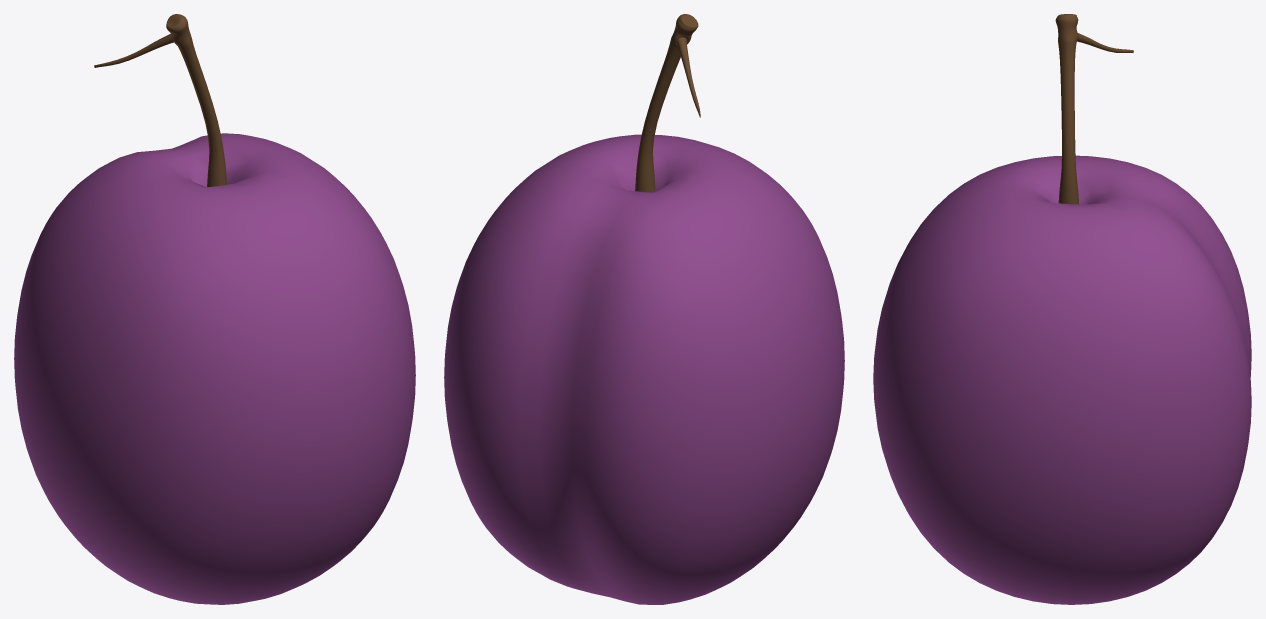
File: plum_interactable.fbx
3 renders of one model, left to right at view 1: azimuth 30°, elevation 25°; view 2: azimuth 150°, elevation 25°; view 3: azimuth 270°, elevation 25°, orthographic. The views are drawn at different scales.
Visible parts, largest first — view 1: plum_interactable; view 2: plum_interactable; view 3: plum_interactable.
Boxes of the visible parts, bbox=[...] form: plum_interactable: bbox=[14, 14, 415, 604]; plum_interactable: bbox=[444, 14, 844, 604]; plum_interactable: bbox=[873, 14, 1251, 604].
Size of the model in its own units: 86.71 by 143 by 87.88.
